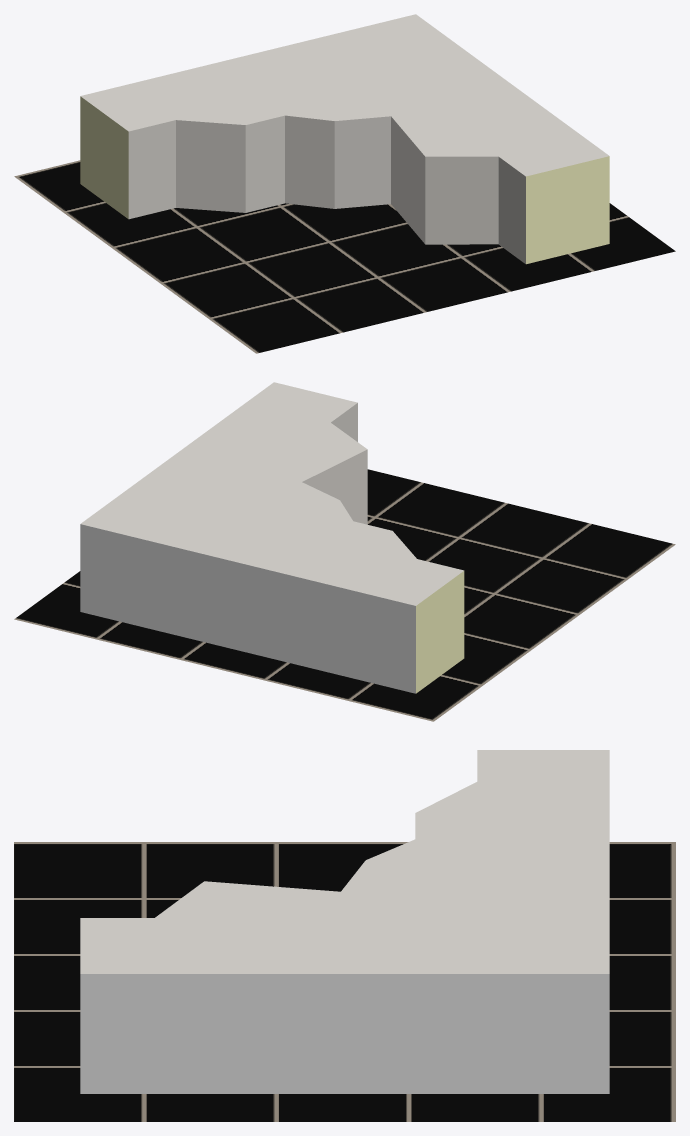
The model's file is Cracked_Curve_Inner_4x4_2_Mid.glb.
3 views of the same model, one above another, from view 1: azimuth 30°, elevation 25°; view 2: azimuth 150°, elevation 25°; view 3: azimuth 270°, elevation 25° (orthographic). The views are drawn at different scales.
Visible parts, largest first — view 1: Cracked_Curve_Inner_4x4_2_Mid, Floor; view 2: Cracked_Curve_Inner_4x4_2_Mid, Floor; view 3: Cracked_Curve_Inner_4x4_2_Mid, Floor.
Part boxes in pixels (bbox=[...]): Cracked_Curve_Inner_4x4_2_Mid: bbox=[80, 14, 609, 264]; Floor: bbox=[14, 160, 675, 353]; Cracked_Curve_Inner_4x4_2_Mid: bbox=[80, 382, 464, 693]; Floor: bbox=[14, 469, 675, 721]; Cracked_Curve_Inner_4x4_2_Mid: bbox=[80, 750, 609, 1093]; Floor: bbox=[14, 842, 675, 1121].
Size of the model in its own units: 500 by 100 by 500.
4 materials, 1 textured.
